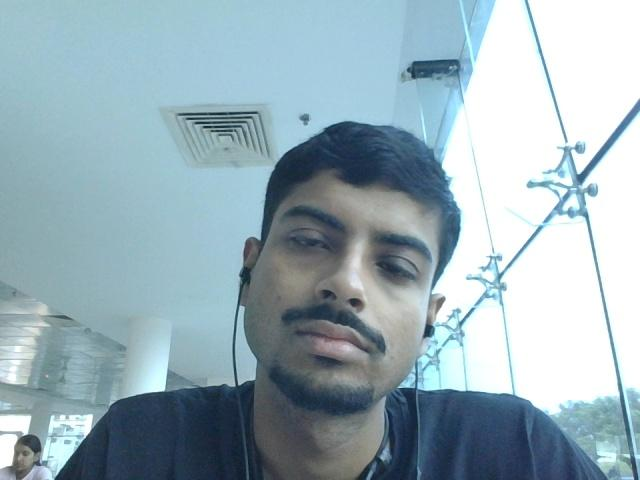nervous: (232, 123, 472, 441)
